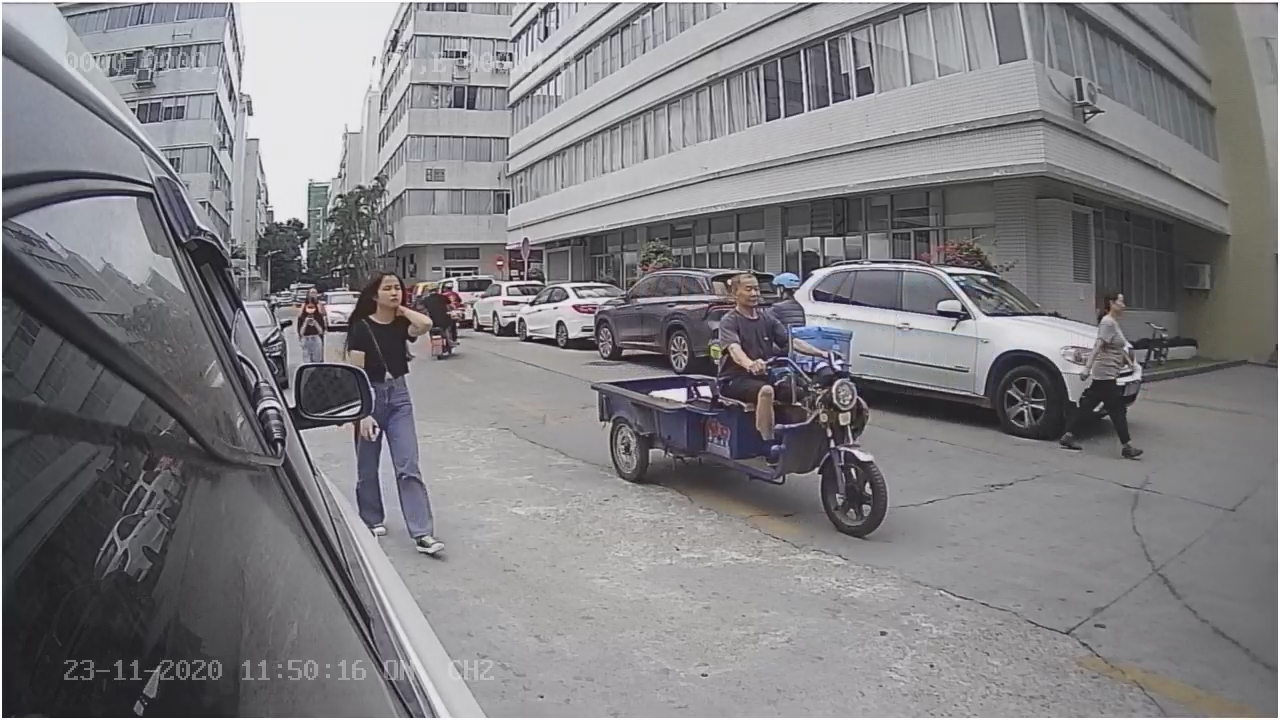person: (1061, 279, 1150, 461), (342, 268, 438, 369)
